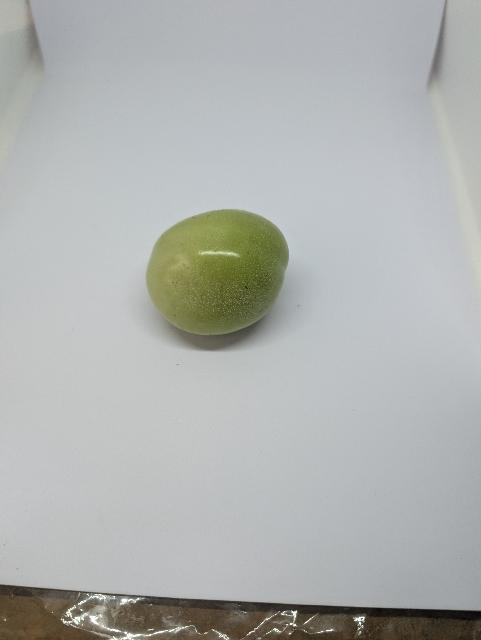green: (147, 208, 290, 337)
